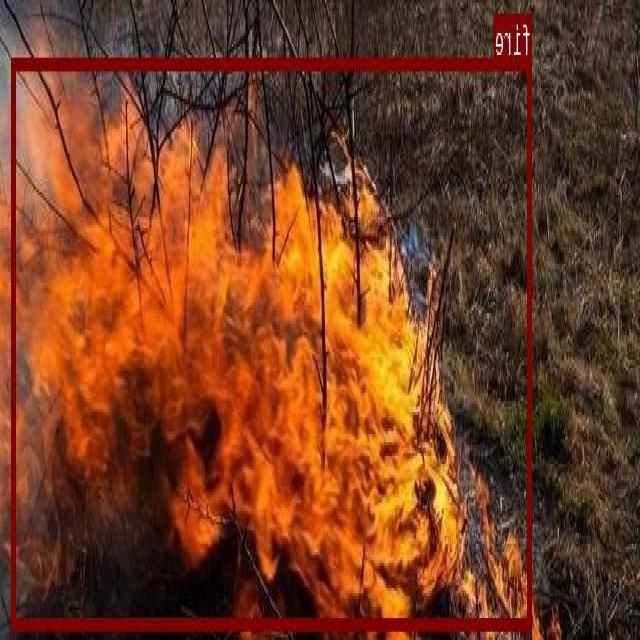fire: (12, 58, 532, 628)
